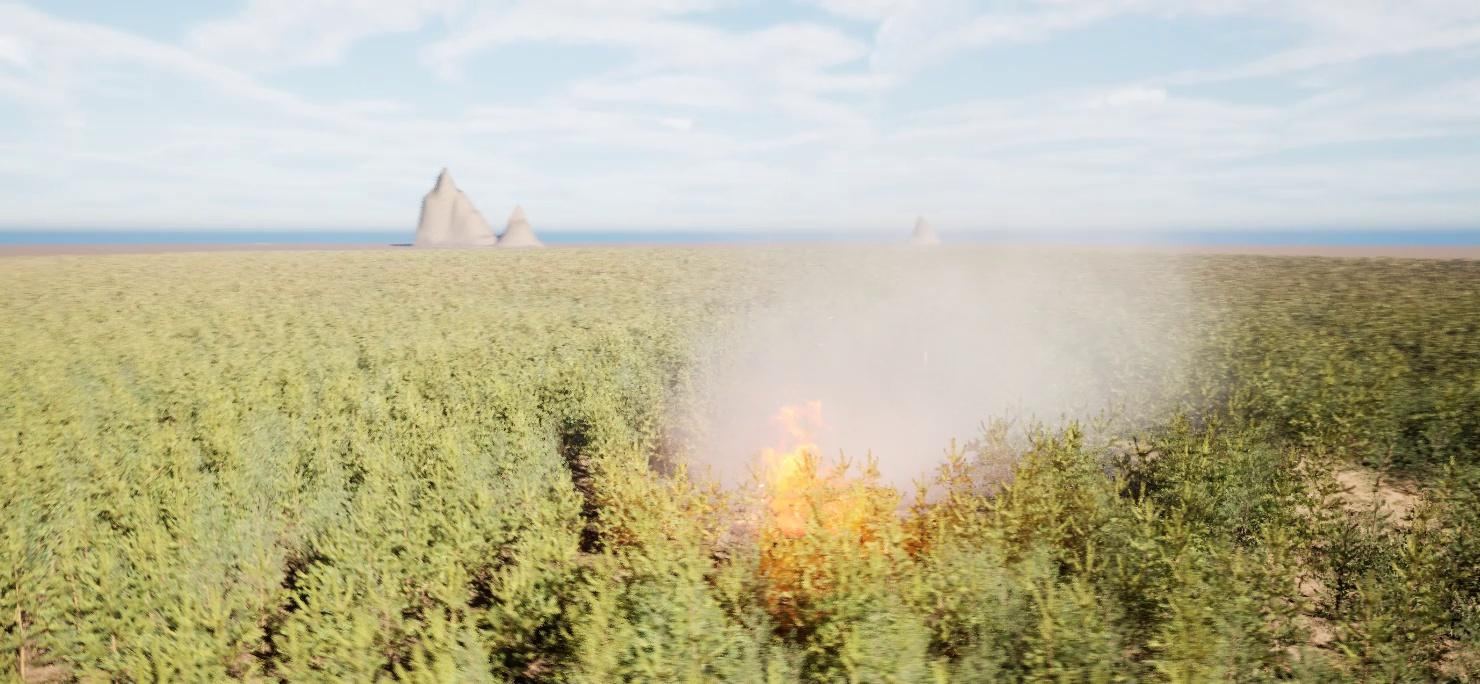fire: (748, 384, 874, 550)
smoke: (651, 149, 1213, 547)
